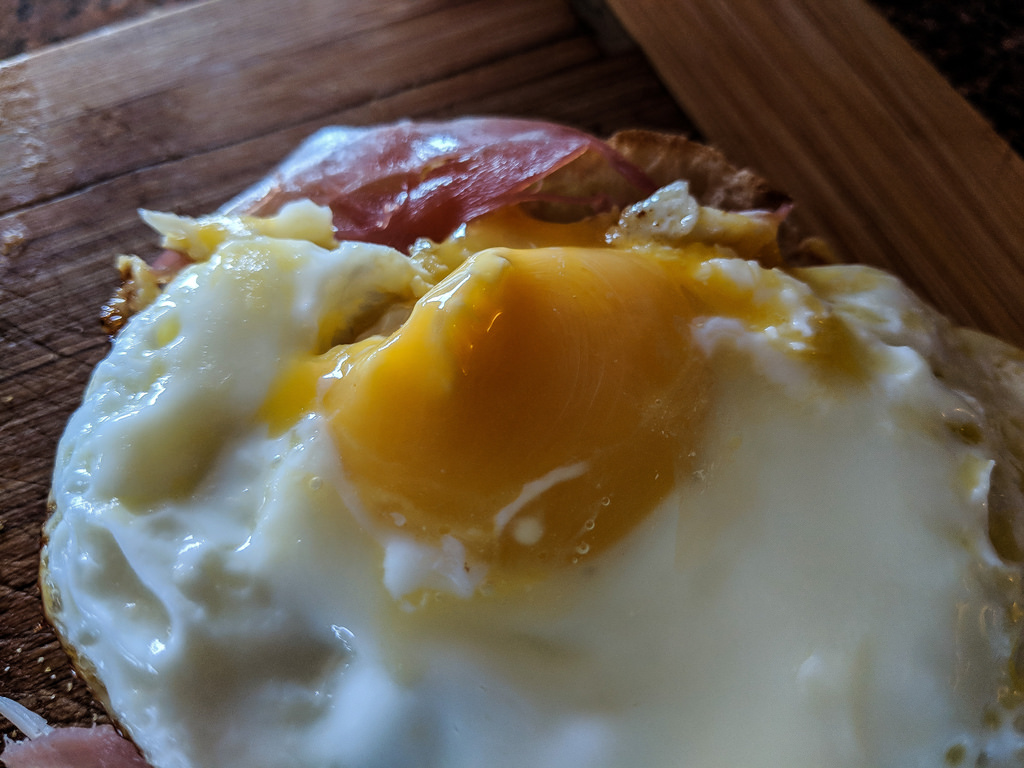fried egg: (117, 243, 978, 766)
